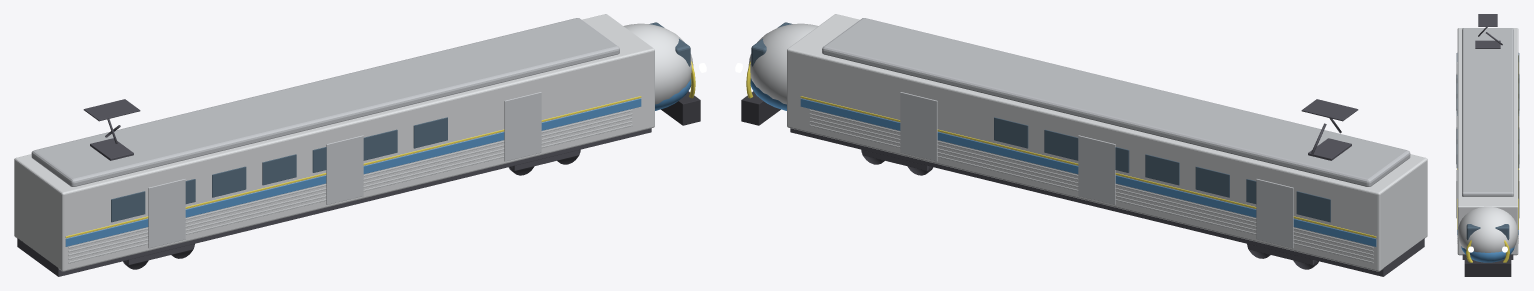
The model's file is train_emu800.glb.
3 views of the same model, side by side, from view 1: azimuth 30°, elevation 25°; view 2: azimuth 150°, elevation 25°; view 3: azimuth 270°, elevation 25° (orthographic). The views are drawn at different scales.
Parts seen in each view (by area): view 1: car_body, car_roof, waist_blue_b, underframe, nose_cap, door_b-6.5, door_b-0.5, door_b5.5, waist_yellow_b, corr_3_b, corr_2_b, corr_4_b (+10 smaller); view 2: car_body, car_roof, waist_blue_a, underframe, nose_cap, door_a-6.5, door_a-0.5, door_a5.5, waist_yellow_a, corr_3_a, corr_1_a, corr_2_a (+10 smaller); view 3: car_roof, car_body, nose_cap, nose_skirt, nose_blue, windshield, panto_shoe, panto_base, waist_yellow_a, corr_4_b, smile, door_a5.5 (+6 smaller).
Part boxes in pixels (bbox=[...]): car_body: bbox=[14, 14, 654, 271]; car_roof: bbox=[31, 18, 619, 186]; waist_blue_b: bbox=[65, 98, 641, 246]; underframe: bbox=[17, 128, 651, 276]; nose_cap: bbox=[623, 23, 693, 104]; door_b-6.5: bbox=[148, 179, 185, 248]; door_b-0.5: bbox=[326, 135, 363, 204]; door_b5.5: bbox=[504, 92, 541, 161]; waist_yellow_b: bbox=[65, 96, 641, 238]; corr_3_b: bbox=[68, 113, 632, 252]; corr_2_b: bbox=[68, 117, 632, 255]; corr_4_b: bbox=[68, 109, 632, 248]; car_body: bbox=[787, 14, 1427, 271]; car_roof: bbox=[822, 18, 1410, 186]; waist_blue_a: bbox=[800, 98, 1376, 246]; underframe: bbox=[790, 128, 1424, 276]; nose_cap: bbox=[748, 23, 818, 104]; door_a-6.5: bbox=[1256, 179, 1293, 248]; door_a-0.5: bbox=[1078, 135, 1115, 204]; door_a5.5: bbox=[900, 92, 937, 161]; waist_yellow_a: bbox=[800, 96, 1376, 238]; corr_3_a: bbox=[809, 113, 1373, 252]; corr_1_a: bbox=[809, 121, 1373, 259]; corr_2_a: bbox=[809, 117, 1373, 255]; car_roof: bbox=[1462, 28, 1513, 196]; car_body: bbox=[1457, 28, 1518, 255]; nose_cap: bbox=[1457, 206, 1518, 252]; nose_skirt: bbox=[1464, 258, 1511, 276]; nose_blue: bbox=[1461, 246, 1514, 262]; windshield: bbox=[1466, 224, 1509, 240]; panto_shoe: bbox=[1478, 14, 1497, 26]; panto_base: bbox=[1475, 40, 1500, 48]; waist_yellow_a: bbox=[1518, 55, 1518, 229]; corr_4_b: bbox=[1457, 63, 1457, 233]; smile: bbox=[1466, 240, 1509, 262]; door_a5.5: bbox=[1518, 170, 1519, 218].
Bounding box in the file's own units: 22 × 4.77 × 2.98.
